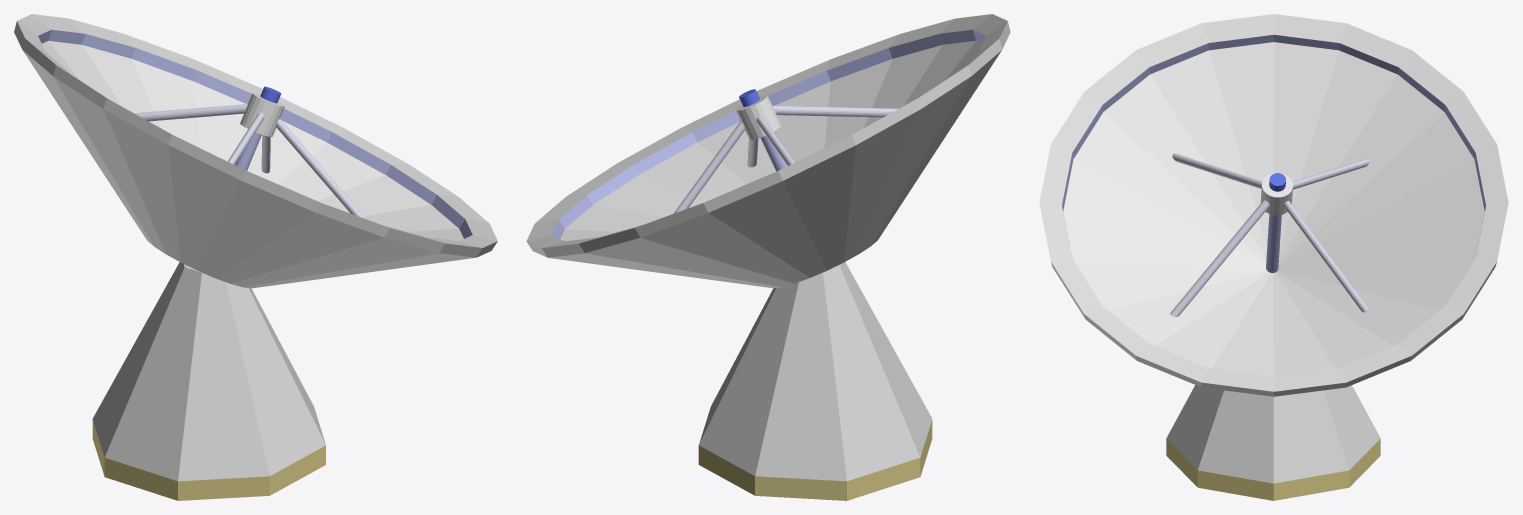
File: ANTENA2.fbx
3 renders of one model, left to right at view 1: azimuth 30°, elevation 25°; view 2: azimuth 150°, elevation 25°; view 3: azimuth 270°, elevation 25°, orthographic. The views are drawn at different scales.
Visible parts, largest first — view 1: polySurface4; view 2: polySurface4; view 3: polySurface4.
Part boxes in pixels (x1,y1,x2,y2): polySurface4: (14, 14, 497, 500); polySurface4: (526, 14, 1010, 500); polySurface4: (1039, 14, 1508, 500).
Bounding box in the file's own units: 7.75 × 7.73 × 8.75.
